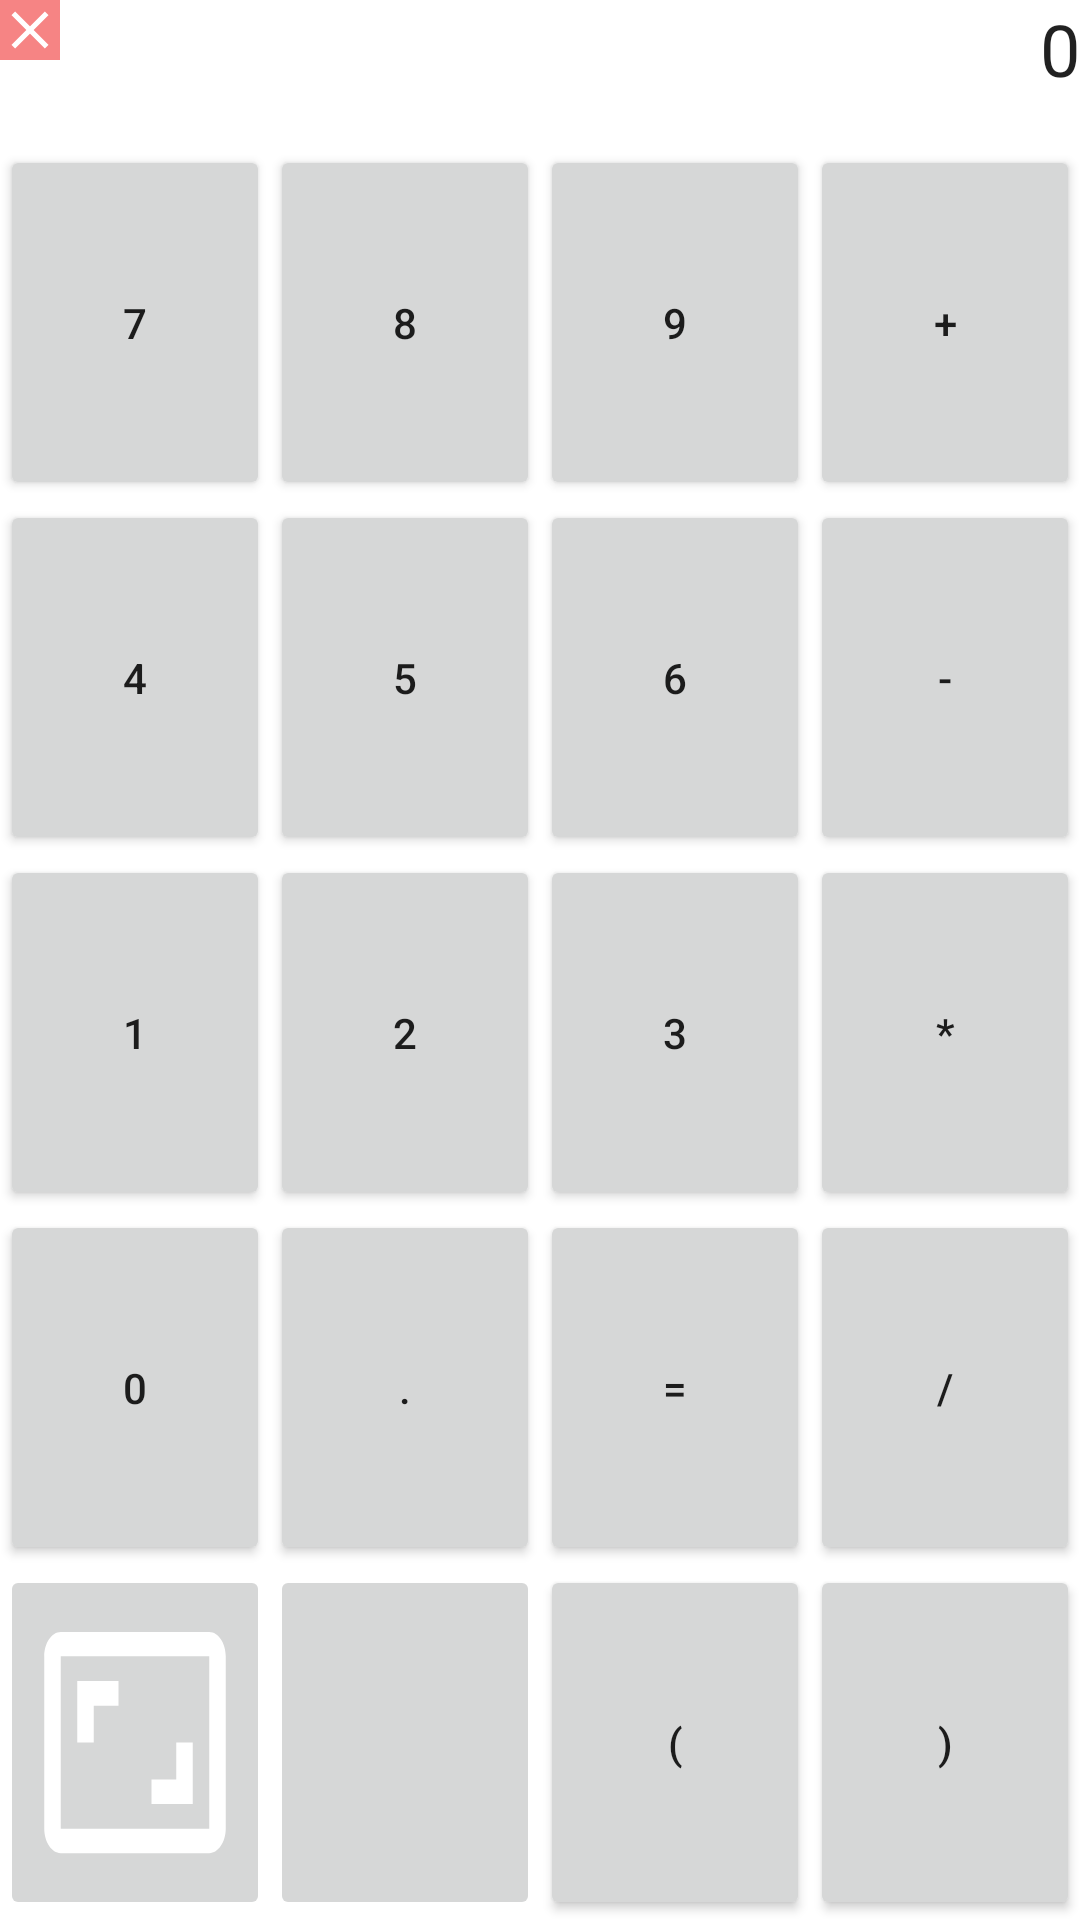

Screen size 1080×1920. Icon name, then its box in pixels as {"left": x1, "top": y1, "right": x2, "bottom": y2}:
aspect ratio: {"left": 12, "top": 1583, "right": 258, "bottom": 1902}
close: {"left": 0, "top": 0, "right": 60, "bottom": 60}
